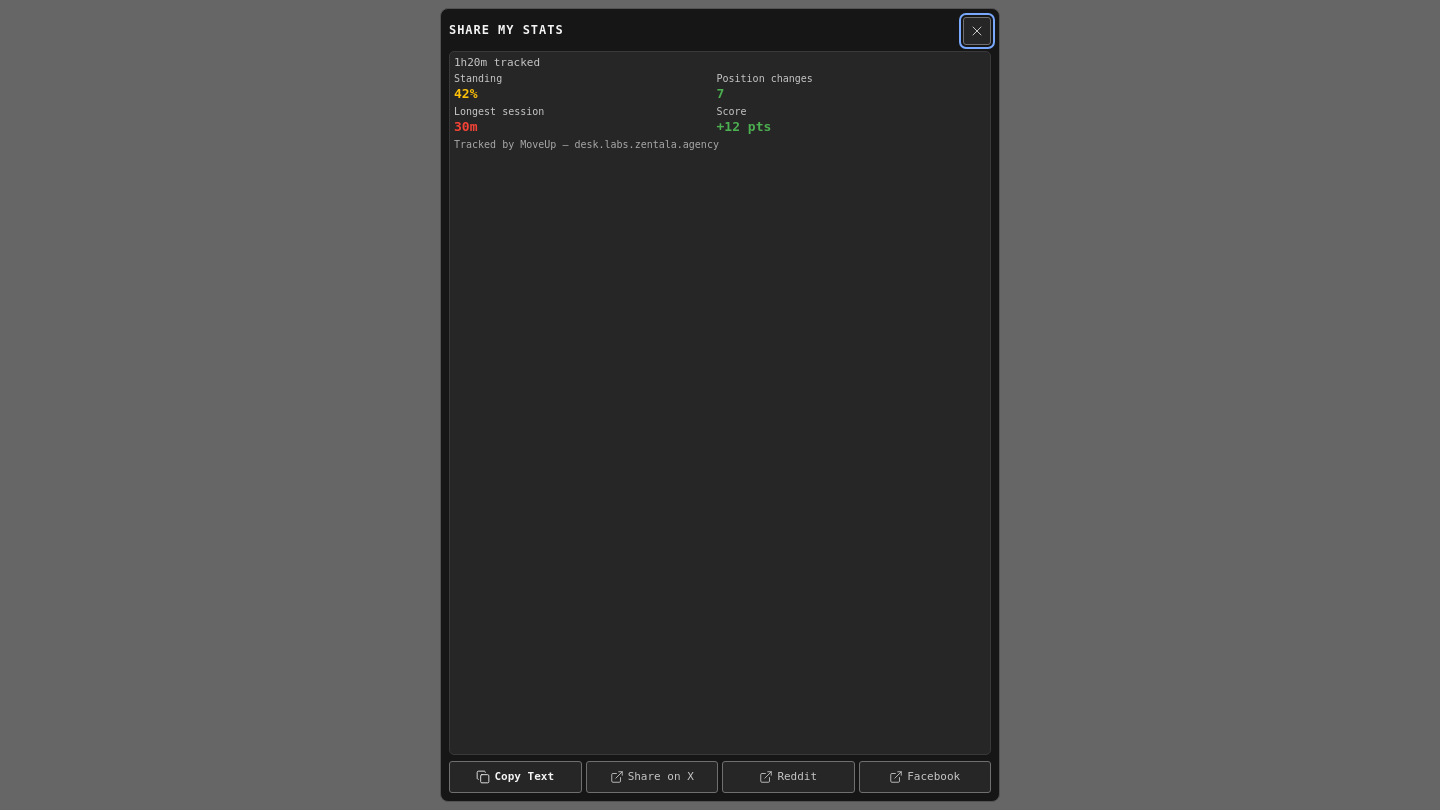
Test: ShareStats › copies formatted share text and shows Copied! feedback
Click the button "Copy Text": (515, 777) [449,761,582,793]
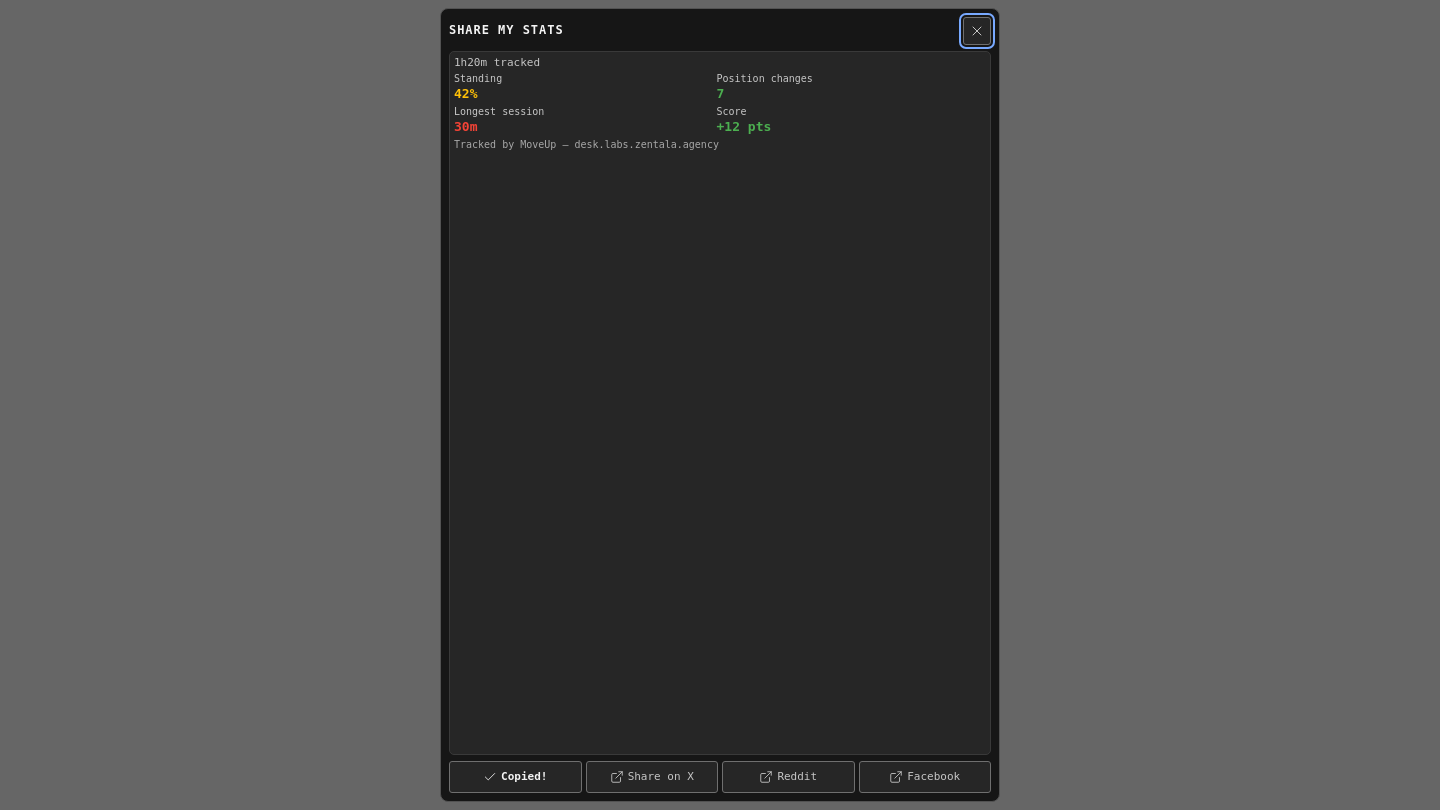
Expected: the text "Copied!" is shown, [501,770,548,784]
